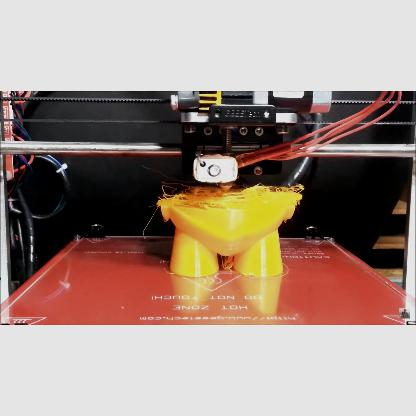fail: (150, 180, 308, 204)
